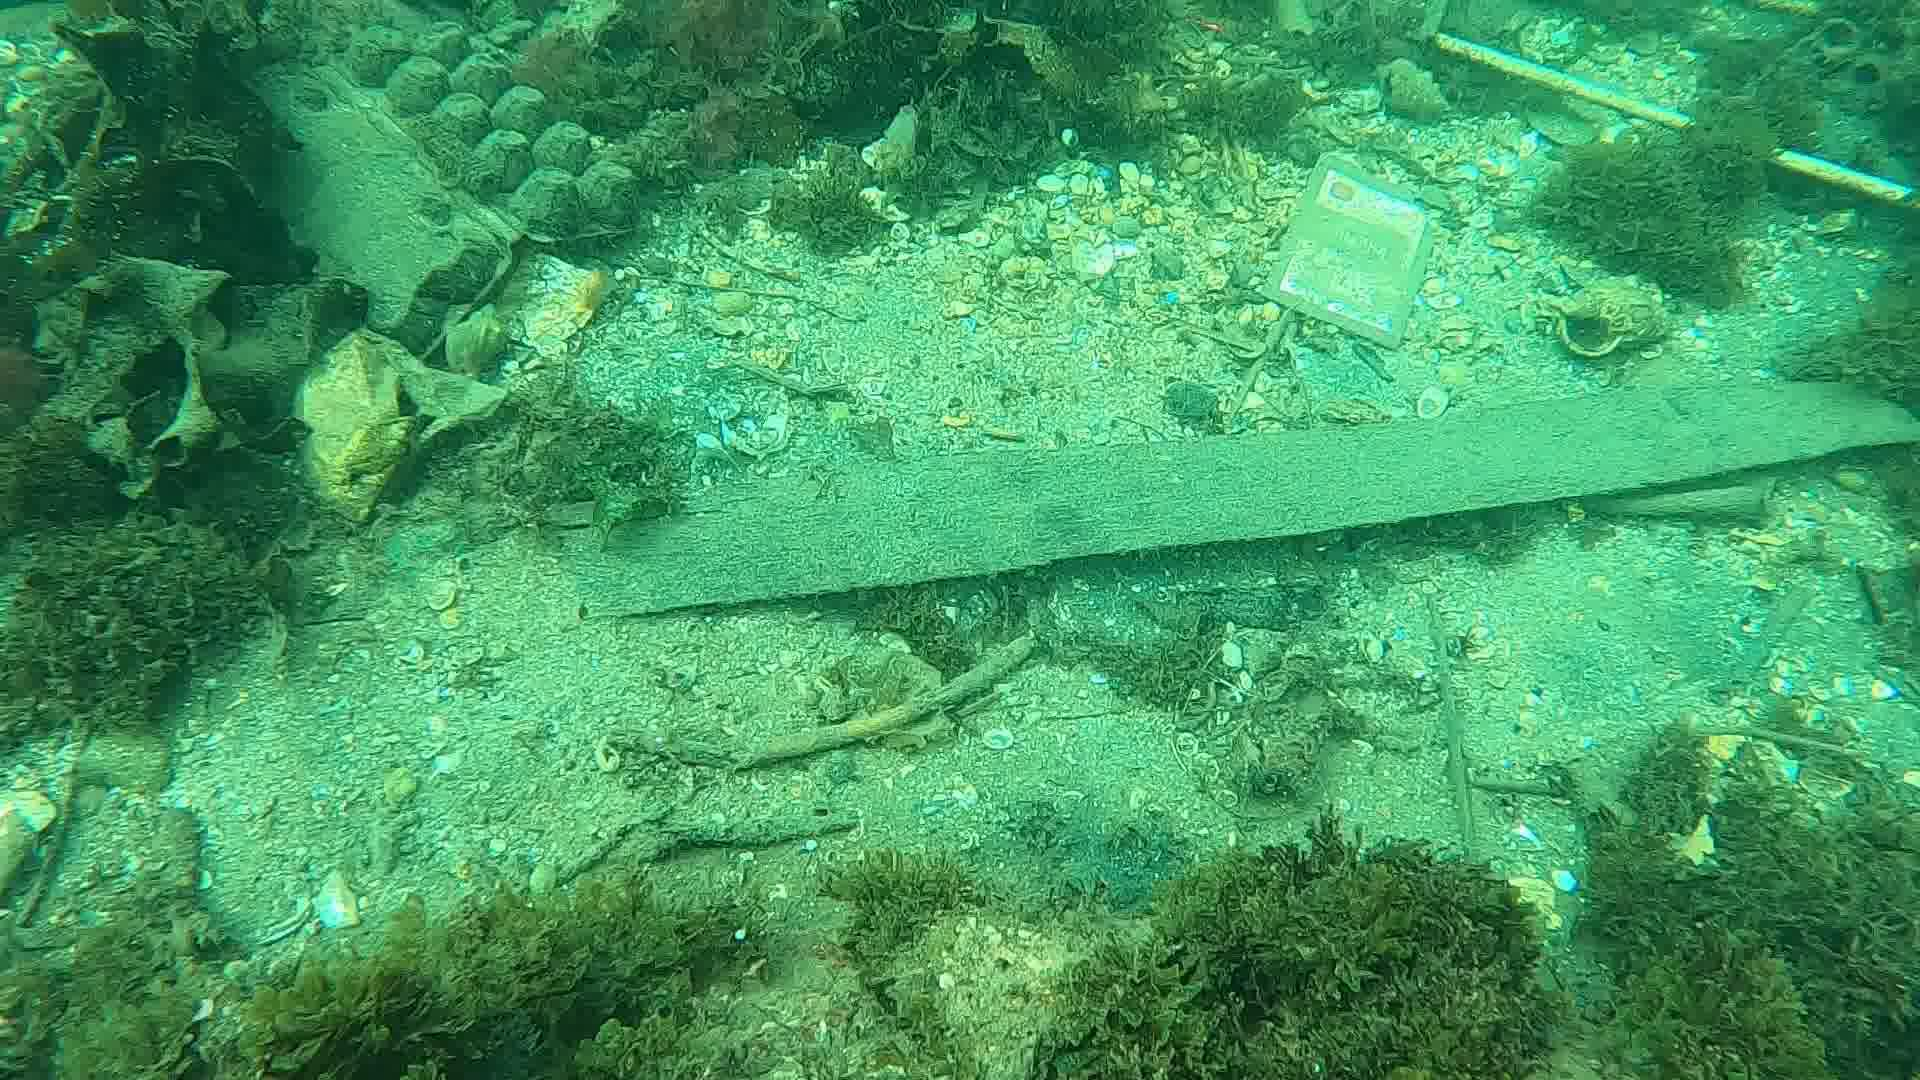wood: (553, 378, 1920, 618)
